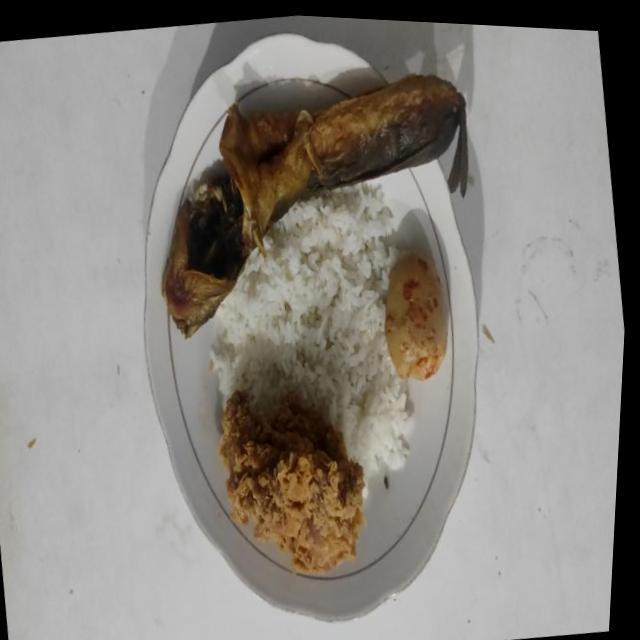nasi_putih: (210, 183, 412, 482)
